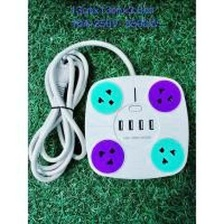three_eye_plug: (83, 73, 190, 180)
